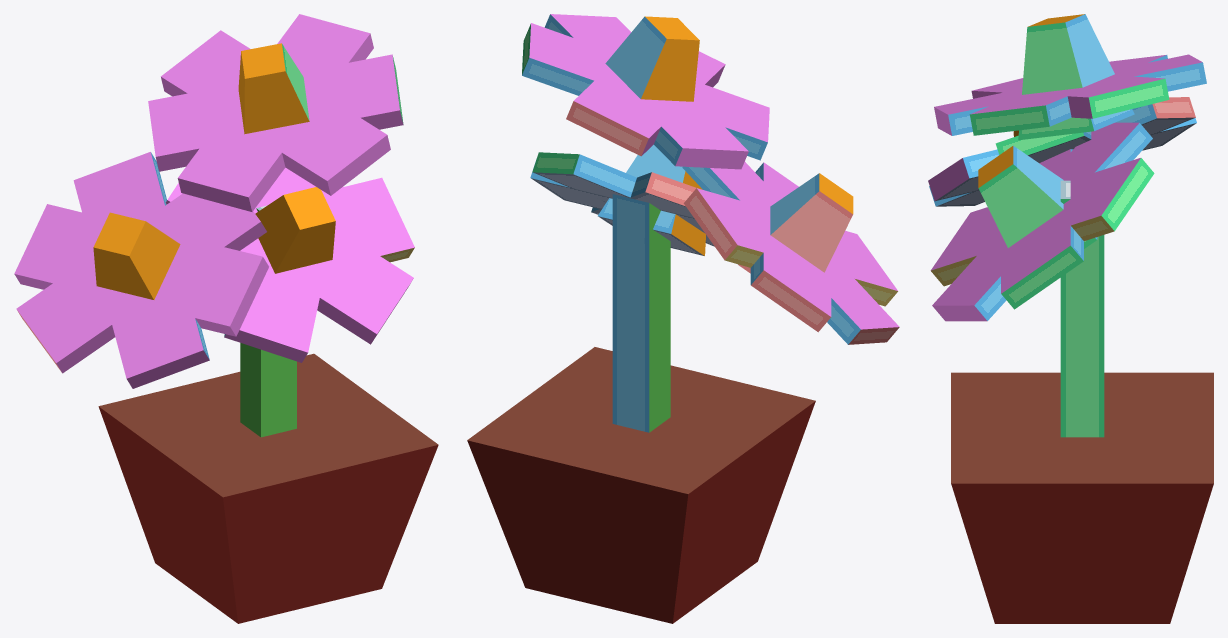
The model's file is vaso di fiori.gltf.
3 views of the same model, side by side, from view 1: azimuth 30°, elevation 25°; view 2: azimuth 150°, elevation 25°; view 3: azimuth 270°, elevation 25° (orthographic). The views are drawn at different scales.
Visible parts, largest first — view 1: cuboid (×14); view 2: cuboid (×14); view 3: cuboid (×13).
Part boxes in pixels (bbox=[...]): cuboid (×14): bbox=[14, 14, 438, 623]; cuboid (×14): bbox=[467, 14, 899, 623]; cuboid (×13): bbox=[928, 14, 1213, 623].
Bounding box in the file's own units: 1.2 × 1.79 × 0.8159.
1 material, 1 textured.
